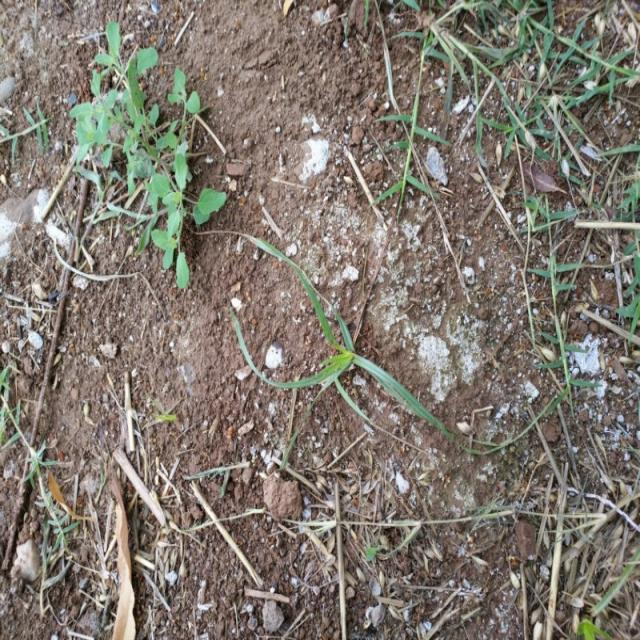sedge: (224, 271, 471, 456)
